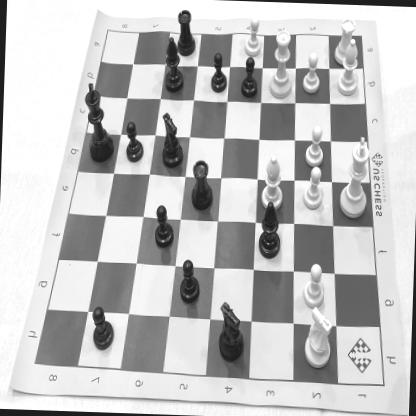black-bishop: (254, 198, 285, 262), (162, 32, 187, 96)
black-king: (82, 78, 118, 166)
black-knight: (212, 296, 249, 366), (159, 108, 186, 172)
black-pawn: (89, 300, 120, 356), (175, 254, 204, 308), (150, 202, 176, 252), (236, 54, 262, 101), (123, 118, 148, 166), (208, 51, 230, 98)
black-rook: (188, 154, 218, 214), (174, 6, 198, 62)
white-bishop: (259, 150, 288, 214), (336, 36, 362, 100)
white-king: (336, 132, 374, 222)
white-knight: (302, 302, 336, 372)
white-pawn: (300, 260, 330, 312), (300, 164, 327, 212), (304, 122, 328, 169), (300, 52, 324, 98), (242, 14, 266, 59)
white-queen: (268, 26, 297, 103)
white-rook: (330, 13, 358, 67)
